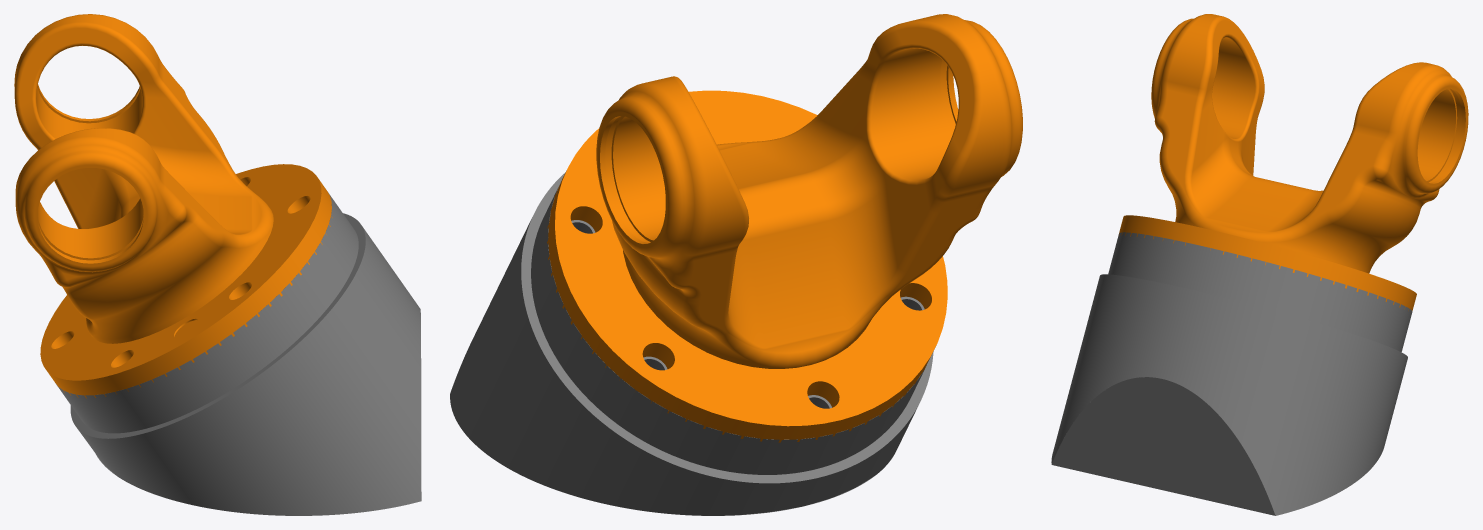
File: cardan_bas3_2.dae
The picture shows the model from 3 angles, left to right: view 1: azimuth 30°, elevation 25°; view 2: azimuth 150°, elevation 25°; view 3: azimuth 270°, elevation 25°; orthographic projection. The views are drawn at different scales.
Parts seen in each view (by area): view 1: STD04_0300_Articulation MISTRAL 600_M600_4, STD04_0300_Articulation MISTRAL 600_M600_4_4; view 2: STD04_0300_Articulation MISTRAL 600_M600_4, STD04_0300_Articulation MISTRAL 600_M600_4_4; view 3: STD04_0300_Articulation MISTRAL 600_M600_4_4, STD04_0300_Articulation MISTRAL 600_M600_4.
Part boxes in pixels (<box>): STD04_0300_Articulation MISTRAL 600_M600_4: <box>14,14,332,398</box>; STD04_0300_Articulation MISTRAL 600_M600_4_4: <box>56,192,421,515</box>; STD04_0300_Articulation MISTRAL 600_M600_4: <box>547,14,1022,442</box>; STD04_0300_Articulation MISTRAL 600_M600_4_4: <box>450,172,933,515</box>; STD04_0300_Articulation MISTRAL 600_M600_4_4: <box>1051,232,1412,515</box>; STD04_0300_Articulation MISTRAL 600_M600_4: <box>1119,14,1468,310</box>.
Size of the model in its own units: 0.149 by 0.1373 by 0.1228.
